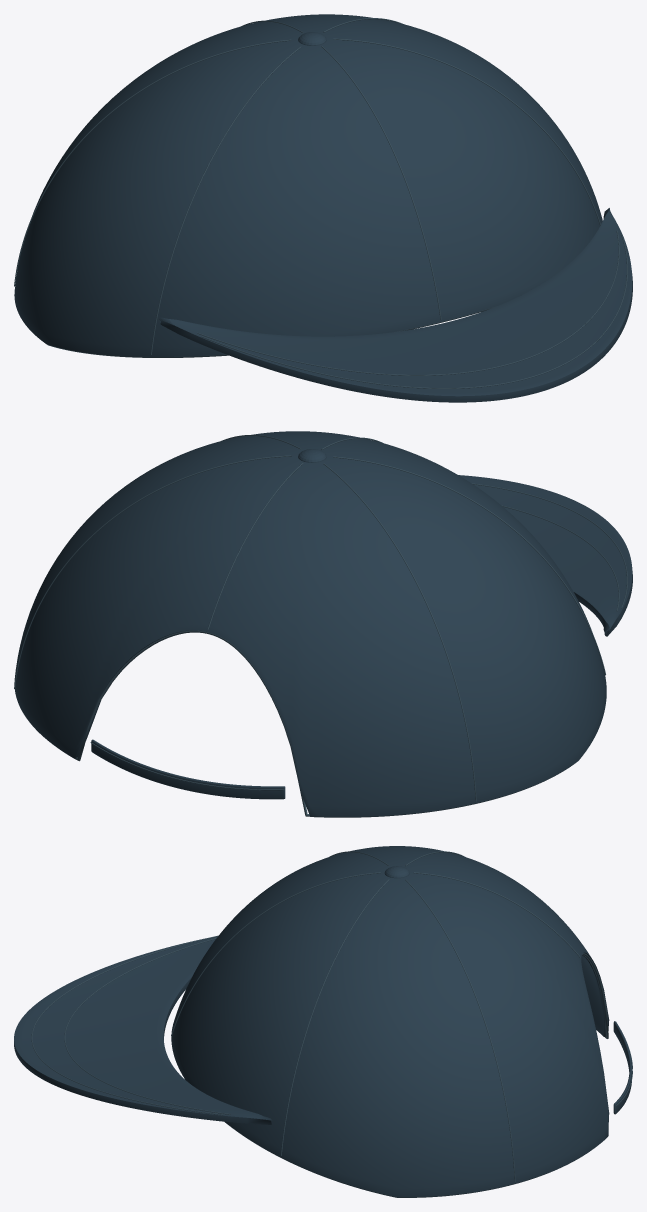
The model's file is Feminine-headgear.glb.
3 renders of one model, top to bottom at view 1: azimuth 30°, elevation 25°; view 2: azimuth 150°, elevation 25°; view 3: azimuth 270°, elevation 25°, orthographic. The views are drawn at different scales.
Parts seen in each view (by area): view 1: Cap / six panel crown211, Cap / rounded bill211, Cap / visor stitch211 0.88 export, Cap / visor stitch211 0.66 export, Cap / panel seam211 4 export, Cap / panel seam211 5 export, Cap / panel seam211 1 export; view 2: Cap / six panel crown211, Cap / rounded bill211, Cap / adjustable rear strap211, Cap / sewn opening edge211 export, Cap / panel seam211 2 export, Cap / panel seam211 4 export, Cap / panel seam211 5 export; view 3: Cap / six panel crown211, Cap / rounded bill211, Cap / sewn opening edge211 export, Cap / visor stitch211 0.88 export, Cap / adjustable rear strap211, Cap / visor stitch211 0.66 export, Cap / panel seam211 2 export.
Boxes of the visible parts, <box> form: Cap / six panel crown211: <box>14,14,602,356</box>; Cap / rounded bill211: <box>159,208,632,402</box>; Cap / visor stitch211 0.88 export: <box>202,234,627,388</box>; Cap / visor stitch211 0.66 export: <box>197,230,619,375</box>; Cap / panel seam211 4 export: <box>14,39,291,286</box>; Cap / panel seam211 5 export: <box>150,46,301,354</box>; Cap / panel seam211 1 export: <box>333,38,600,225</box>; Cap / six panel crown211: <box>14,431,606,816</box>; Cap / rounded bill211: <box>458,475,632,636</box>; Cap / adjustable rear strap211: <box>91,739,285,799</box>; Cap / sewn opening edge211 export: <box>65,630,570,817</box>; Cap / panel seam211 2 export: <box>14,455,291,688</box>; Cap / panel seam211 4 export: <box>323,463,476,801</box>; Cap / panel seam211 5 export: <box>333,456,605,675</box>; Cap / six panel crown211: <box>171,846,609,1197</box>; Cap / rounded bill211: <box>14,936,272,1124</box>; Cap / sewn opening edge211 export: <box>225,953,608,1197</box>; Cap / visor stitch211 0.88 export: <box>31,935,222,1115</box>; Cap / adjustable rear strap211: <box>613,1021,631,1114</box>; Cap / visor stitch211 0.66 export: <box>64,938,230,1114</box>; Cap / panel seam211 2 export: <box>405,879,515,1181</box>.
Size of the model in its own units: 1.04 by 0.4688 by 1.2.
